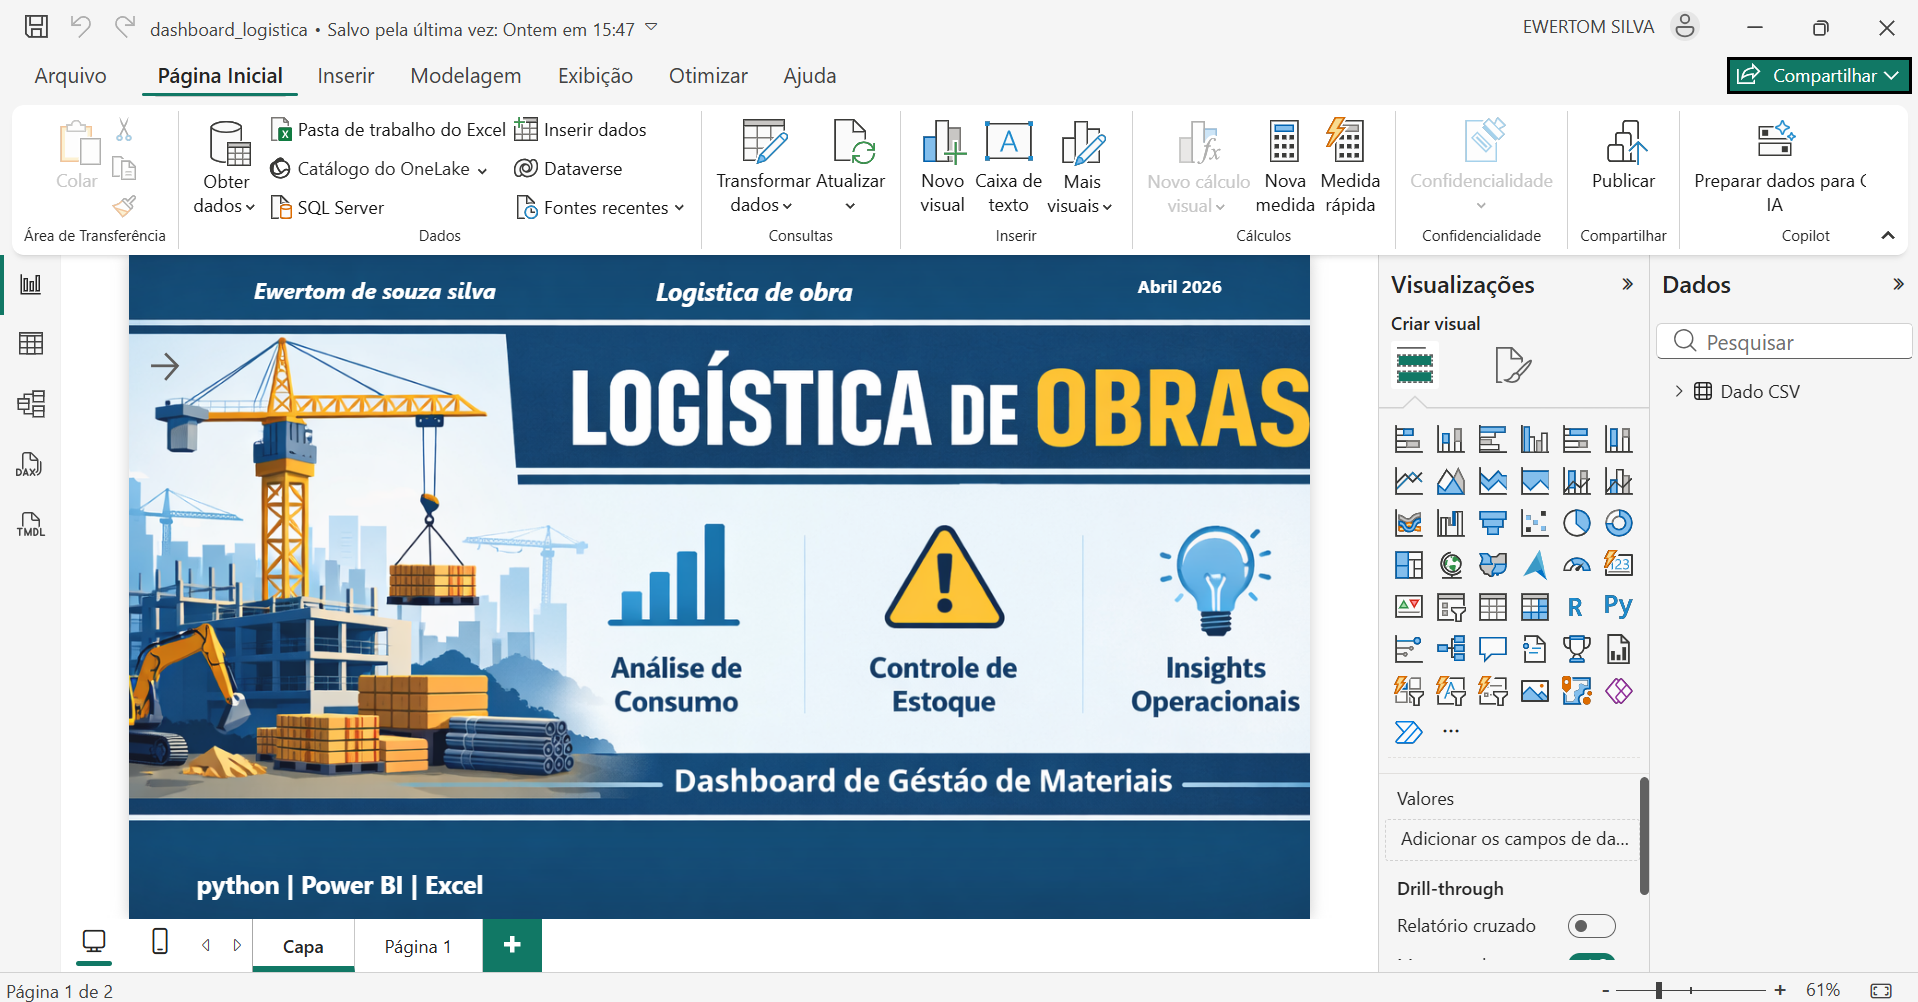

The dashboard page shown, as its layout file describes it:
{"tool":"powerbi","page":{"name":"Capa","canvas":[1280,720],"ordinal":0},"visuals":[{"type":"actionButton","box":[17.9,100.8,99.2,40.7],"z":0},{"type":"textbox","box":[447.3,16.3,468.4,55.3],"z":1000},{"type":"textbox","box":[68.3,16.3,403.4,55.3],"z":1001},{"type":"textbox","box":[68.3,658.8,515.6,47.2],"z":1002},{"type":"textbox","box":[1015,16.3,248.9,42.3],"z":1003}]}

Visuals, with their boxes on the page's 1280x720 design canvas (x1, y1, x2, y2). These are canvas units, not pixel positions in the 1918x1002 screenshot, which may show the page scaled, cropped or inside an application window:
actionButton: left=18, top=101, right=117, bottom=142
textbox: left=447, top=16, right=916, bottom=72
textbox: left=68, top=16, right=472, bottom=72
textbox: left=68, top=659, right=584, bottom=706
textbox: left=1015, top=16, right=1264, bottom=59
